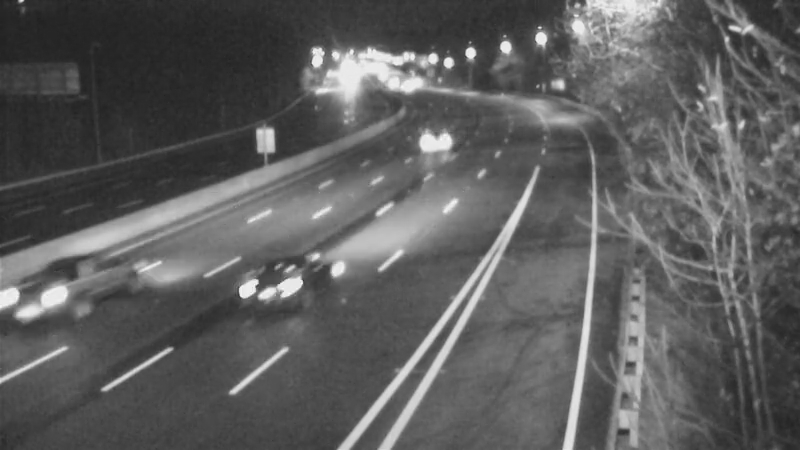vehicle: (232, 245, 312, 325), (3, 248, 83, 328), (409, 110, 459, 160)
